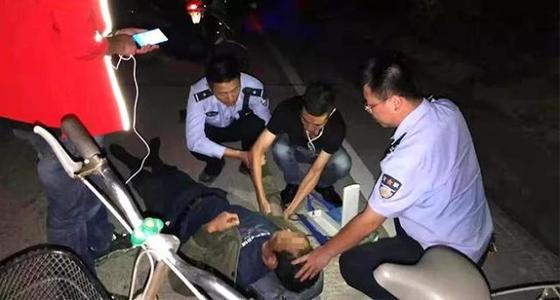fall: (113, 122, 331, 298)
